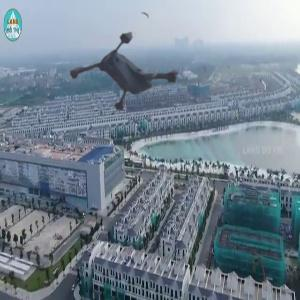drone: (82, 10, 200, 128)
